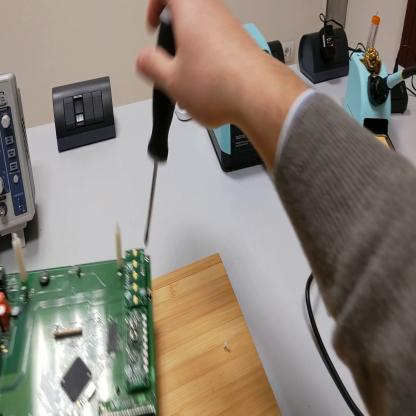electric screwdriver battery: (389, 72, 410, 115)
hand: (135, 2, 254, 133)
low voltage board: (1, 224, 162, 416)
oscilloscope: (1, 74, 38, 252)
screwdriver-: (145, 10, 179, 247)
socket: (298, 26, 351, 87), (269, 42, 286, 65)
welder base: (350, 47, 393, 138)
welder probe tip: (371, 65, 416, 106)
welder station: (208, 27, 275, 176)
working area: (156, 255, 282, 416)
